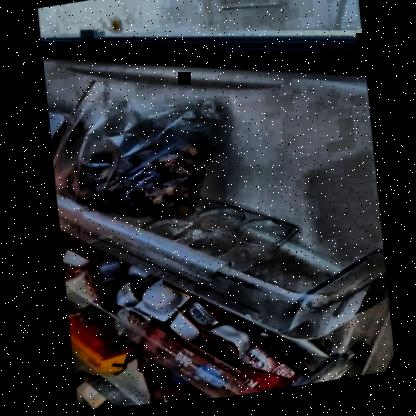butter: (68, 338, 124, 376)
dates: (65, 126, 205, 223)
milk: (72, 381, 113, 411)
